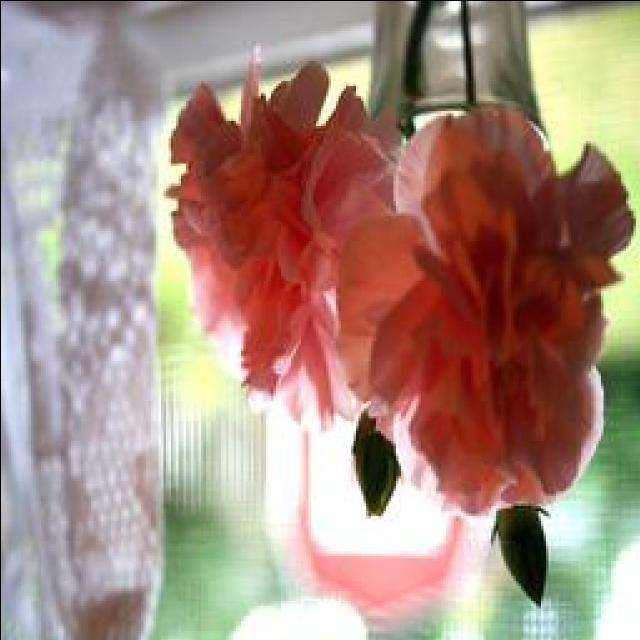carnation: (346, 114, 628, 524)
